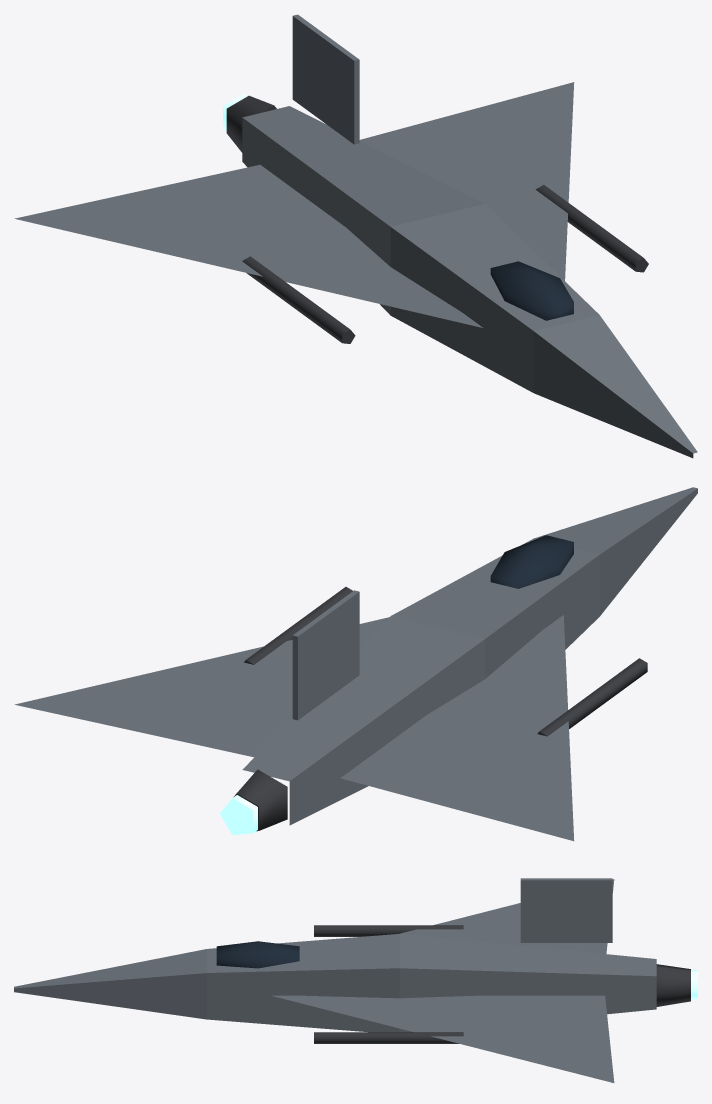
Rendered from space_ship_interceptor_mk3_lod1.glb.
3 renders of one model, top to bottom at view 1: azimuth 30°, elevation 25°; view 2: azimuth 150°, elevation 25°; view 3: azimuth 270°, elevation 25°, orthographic. The views are drawn at different scales.
Parts seen in each view (by area): view 1: body, gun_r, gun_l, engine_0; view 2: body, engine_0, gun_r, gun_l; view 3: body, gun_l, engine_0, gun_r.
Boxes of the visible parts, box(x1,y1,x2,y2) form: body: box(14, 14, 697, 458); gun_r: box(242, 256, 355, 343); gun_l: box(535, 185, 648, 272); engine_0: box(223, 94, 276, 152); body: box(14, 487, 697, 841); engine_0: box(219, 769, 287, 835); gun_r: box(537, 658, 647, 736); gun_l: box(244, 587, 352, 664); body: box(14, 878, 656, 1082); gun_l: box(314, 1032, 463, 1043); engine_0: box(656, 964, 697, 1006); gun_r: box(314, 925, 463, 936).
Size of the model in its own units: 8.4 by 2.65 by 11.88.
